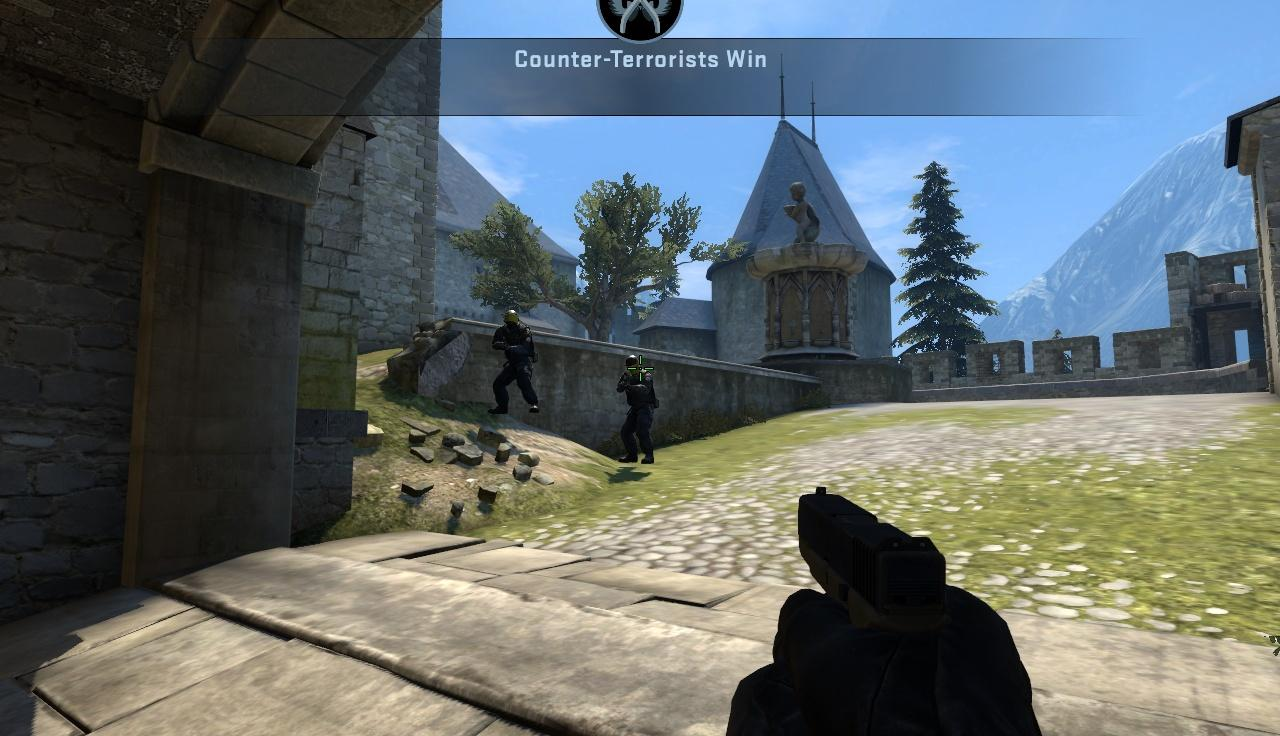ct: (490, 308, 538, 416), (616, 354, 655, 464)
cthead: (503, 310, 519, 329), (625, 355, 640, 374)
pistol: (781, 487, 1037, 736)
